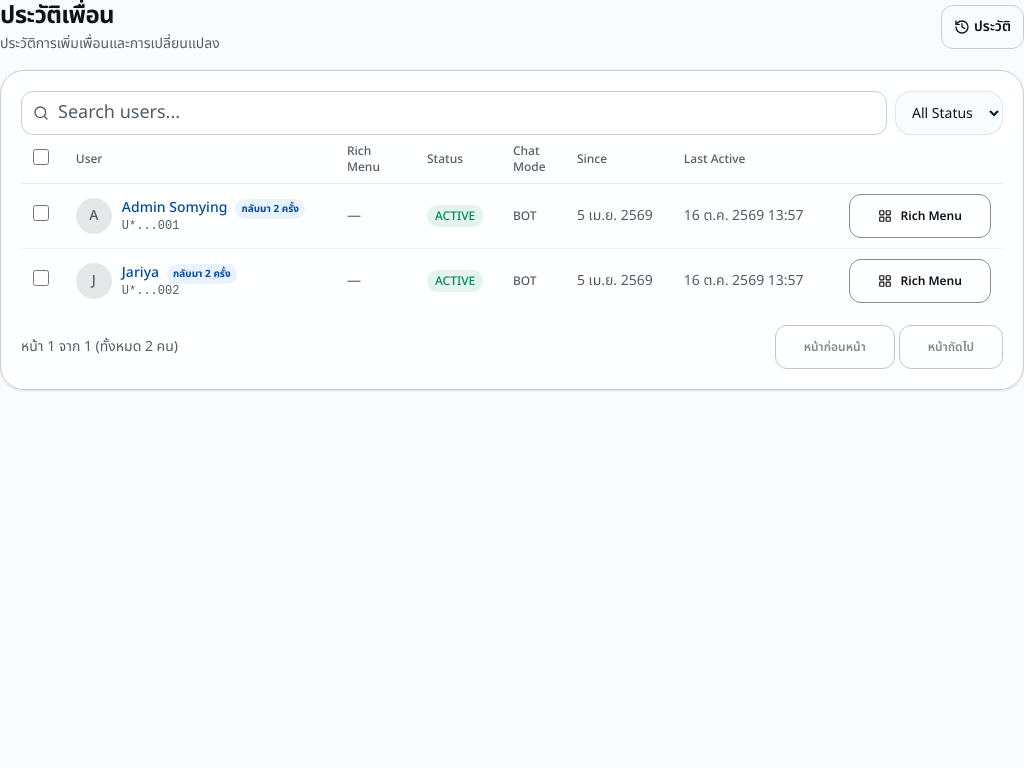
Test case: FriendsClient bulk JSK › unsynced menu เลือกไม่ได้
Expected: the link "Admin Somying" is shown, [122, 197, 227, 218]
Click the checkbox named "เลือก Admin Somying": click(41, 213) [33, 205, 49, 221]
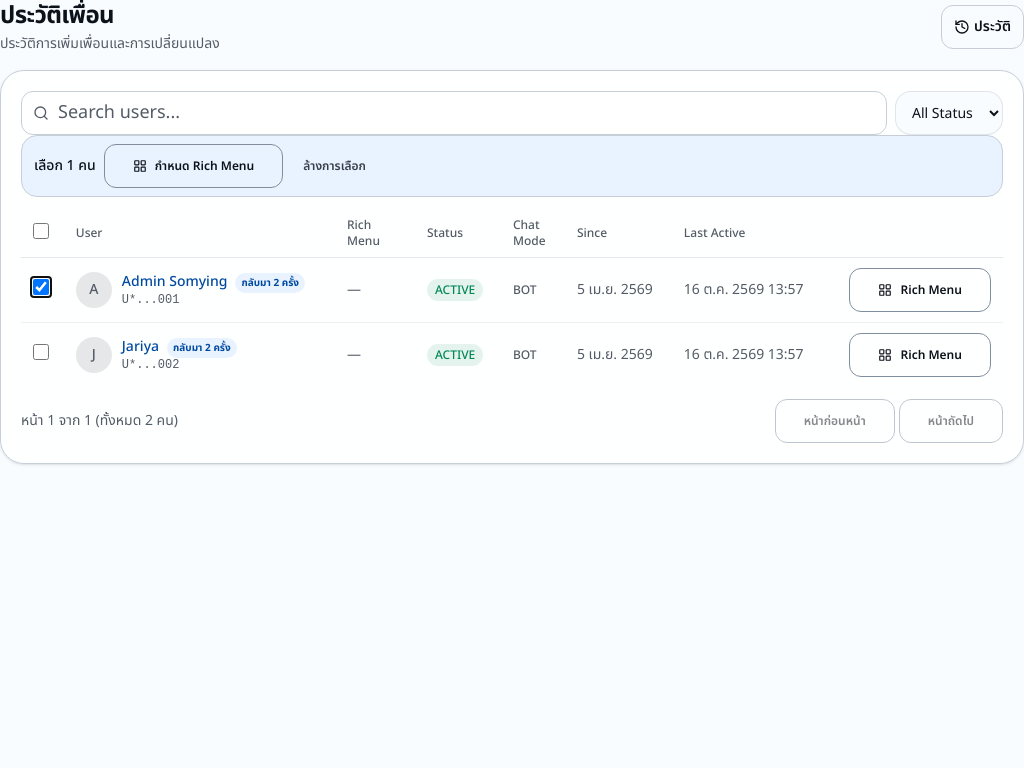
Click the button "กำหนด Rich Menu": click(194, 166) [104, 144, 283, 188]
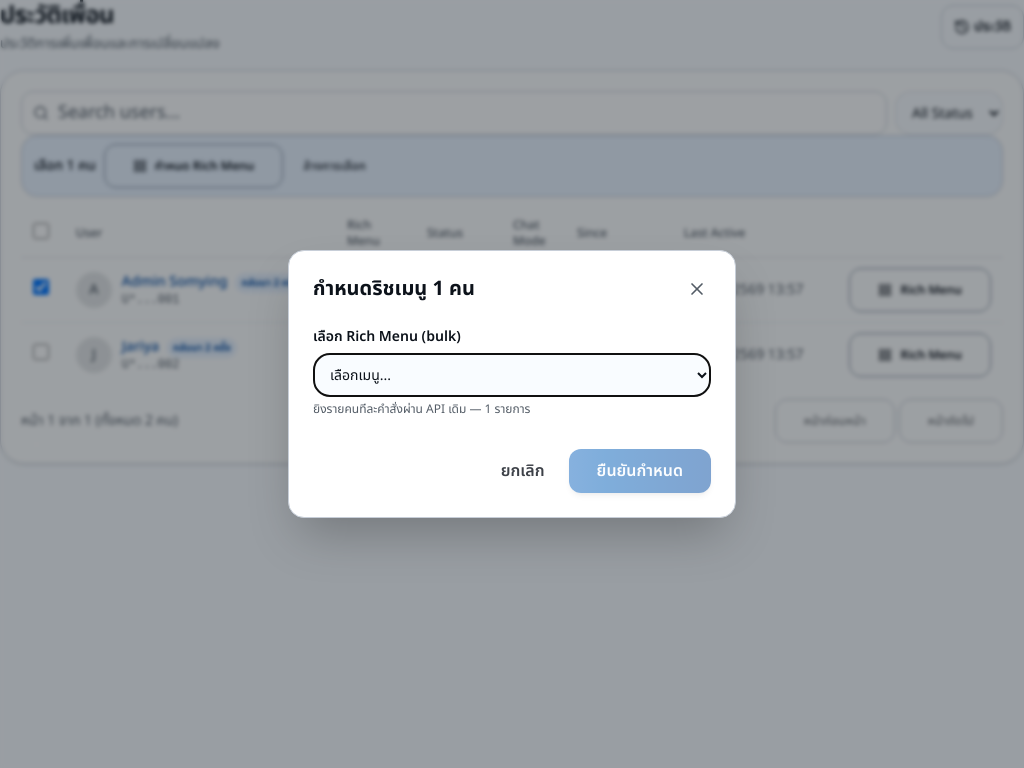
Expected: the heading "กำหนดริชเมนู 1 คน" is shown, [313, 274, 475, 304]
